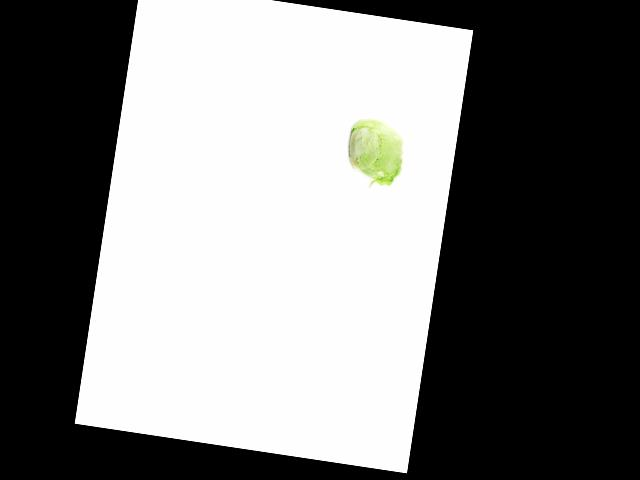lettuce: (341, 113, 410, 185)
